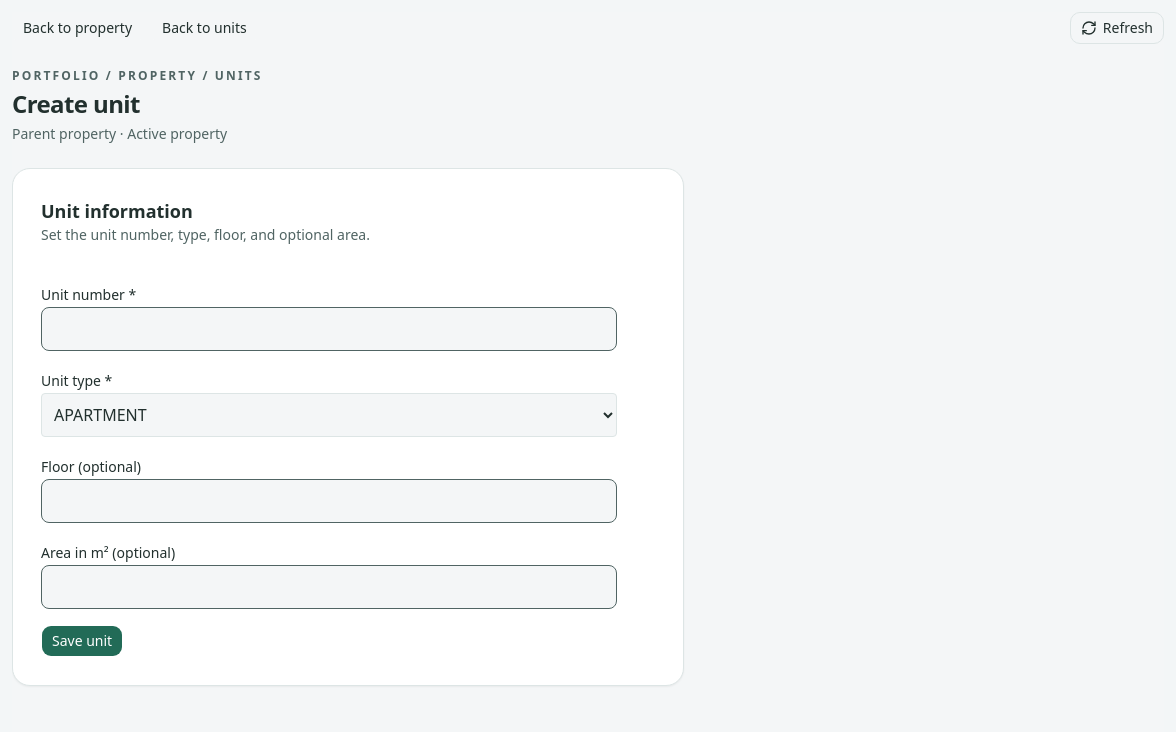
Test case: creates only allowed DTO fields
Type " A-102 " into the field labelled "Unit number *" at [329, 329], box 41,307 -> 617,351
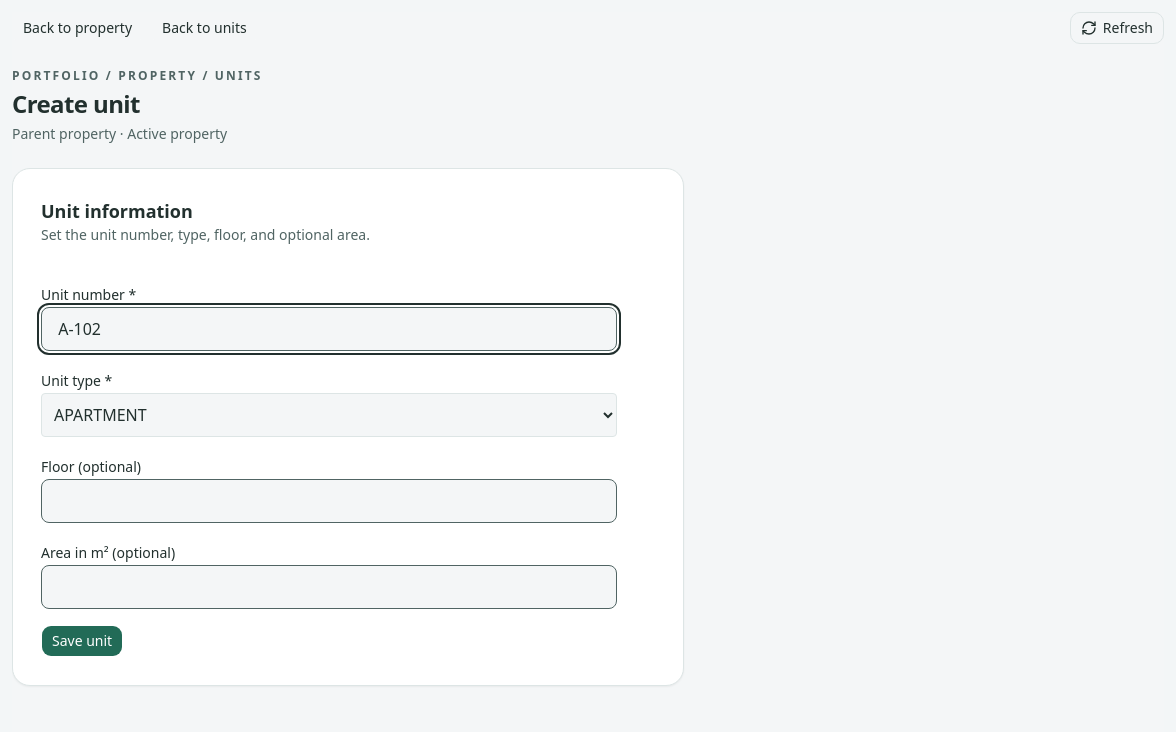
Click the button "Save unit" at [82, 641], box 41,625 -> 123,657
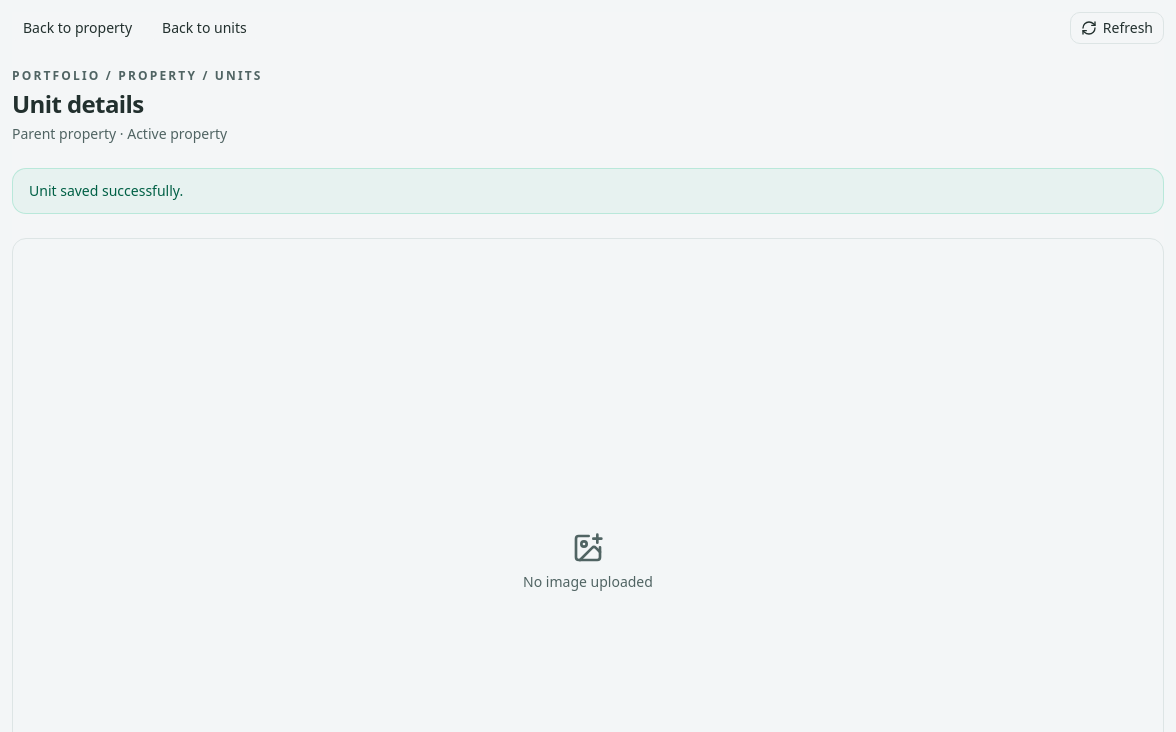
Result: the heading "Unit details" is shown at 12,87 -> 144,120
